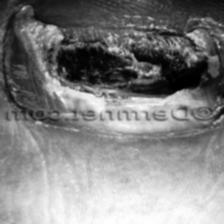Toxin: (0, 14, 216, 135)
